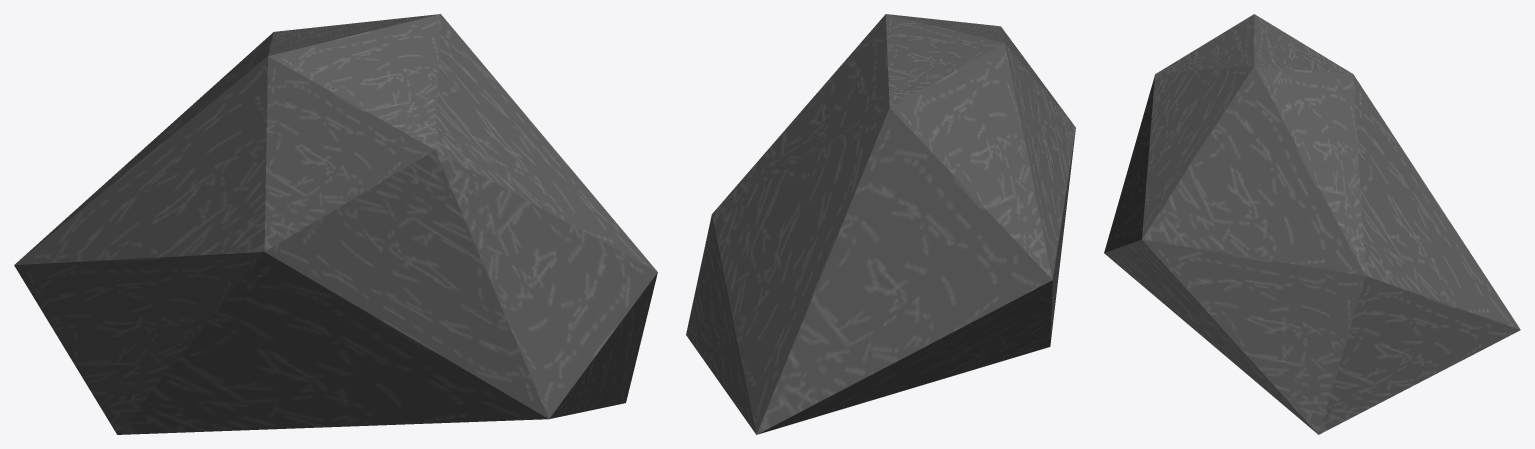
The model's file is Medium_Rock.fbx.
The picture shows the model from 3 angles, left to right: view 1: azimuth 30°, elevation 25°; view 2: azimuth 150°, elevation 25°; view 3: azimuth 270°, elevation 25°; orthographic projection. The views are drawn at different scales.
Parts seen in each view (by area): view 1: Platonic; view 2: Platonic; view 3: Platonic.
Part boxes in pixels (box(x1,y1,x2,y2)): Platonic: box(14, 14, 657, 434); Platonic: box(686, 14, 1075, 434); Platonic: box(1104, 14, 1520, 434).
Bounding box in the file's own units: 331 × 268 × 340.
Materials: 1 (1 with a texture image).
